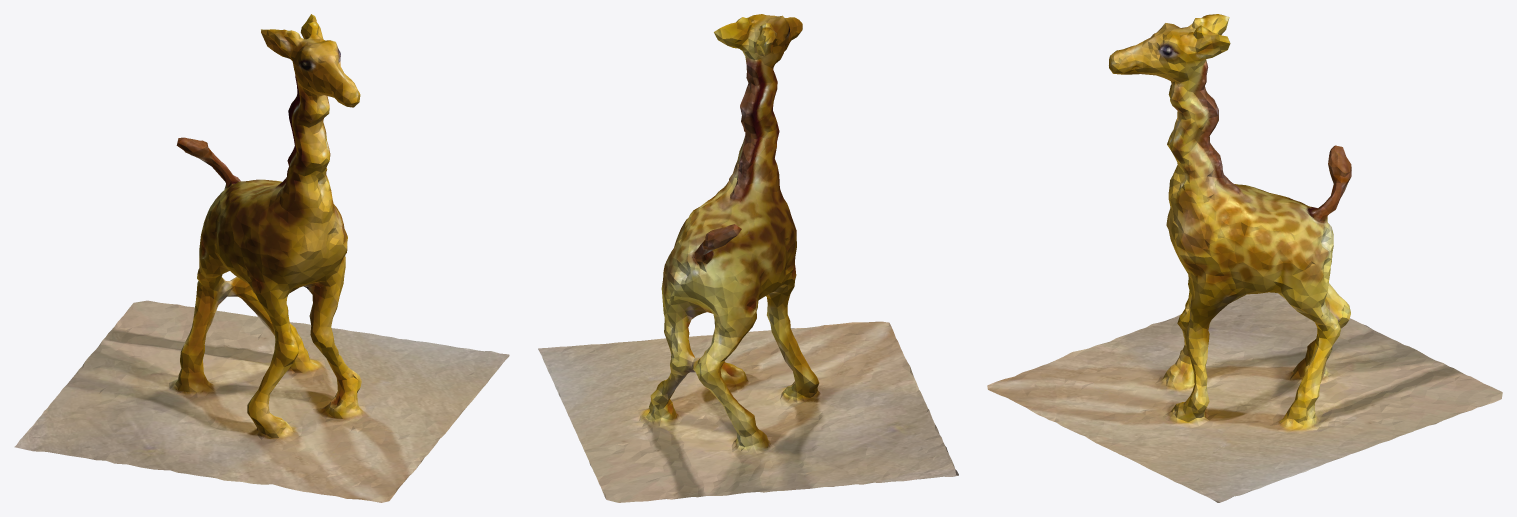
The model's file is happy-meal.glb.
3 views of the same model, side by side, from view 1: azimuth 30°, elevation 25°; view 2: azimuth 150°, elevation 25°; view 3: azimuth 270°, elevation 25° (orthographic). The views are drawn at different scales.
Size of the model in its own units: 0.1787 by 0.1431 by 0.1756.
Materials: 1 (1 with a texture image).
